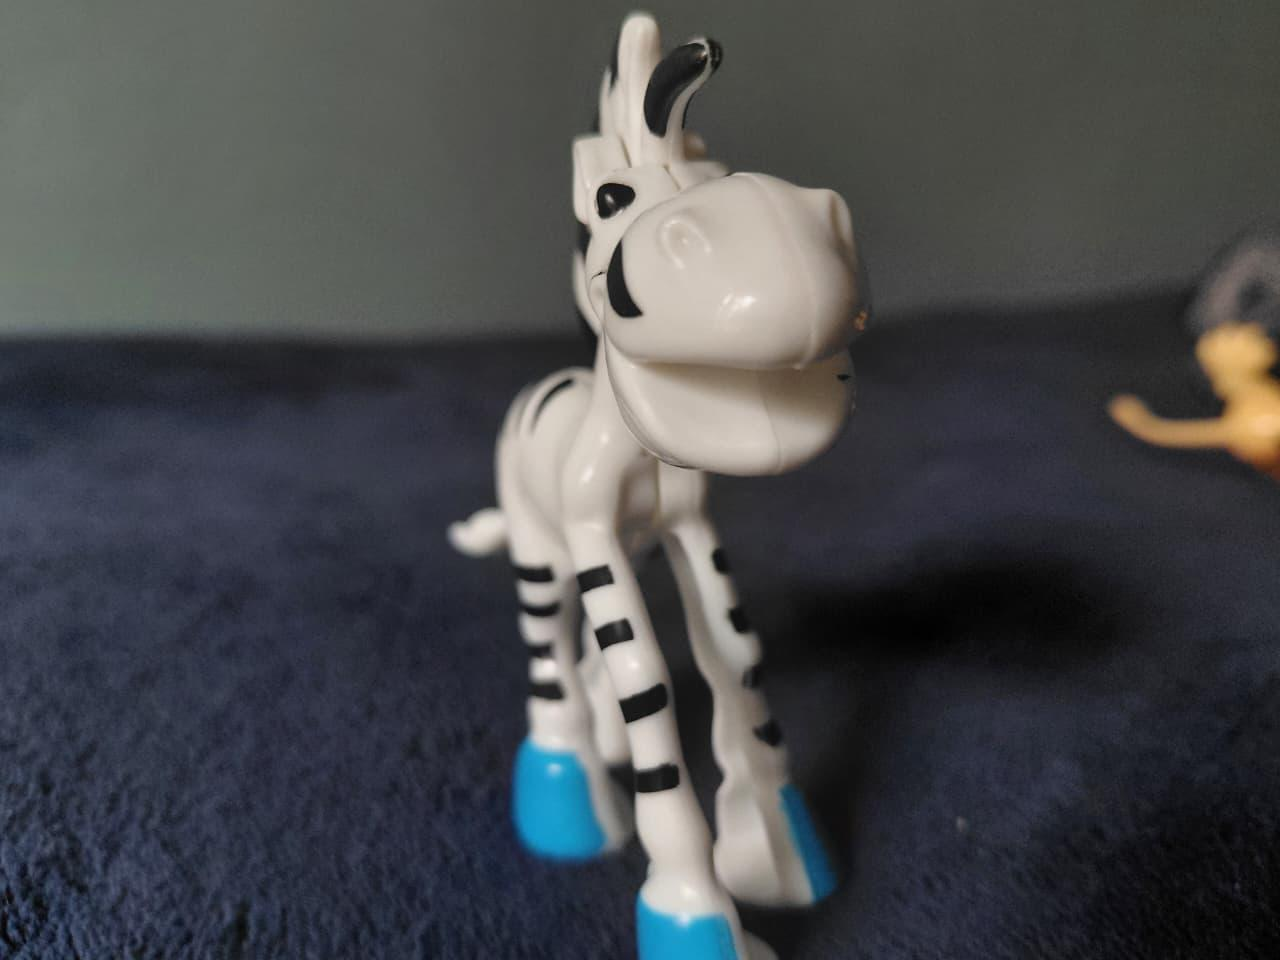zebra: (424, 8, 901, 960)
